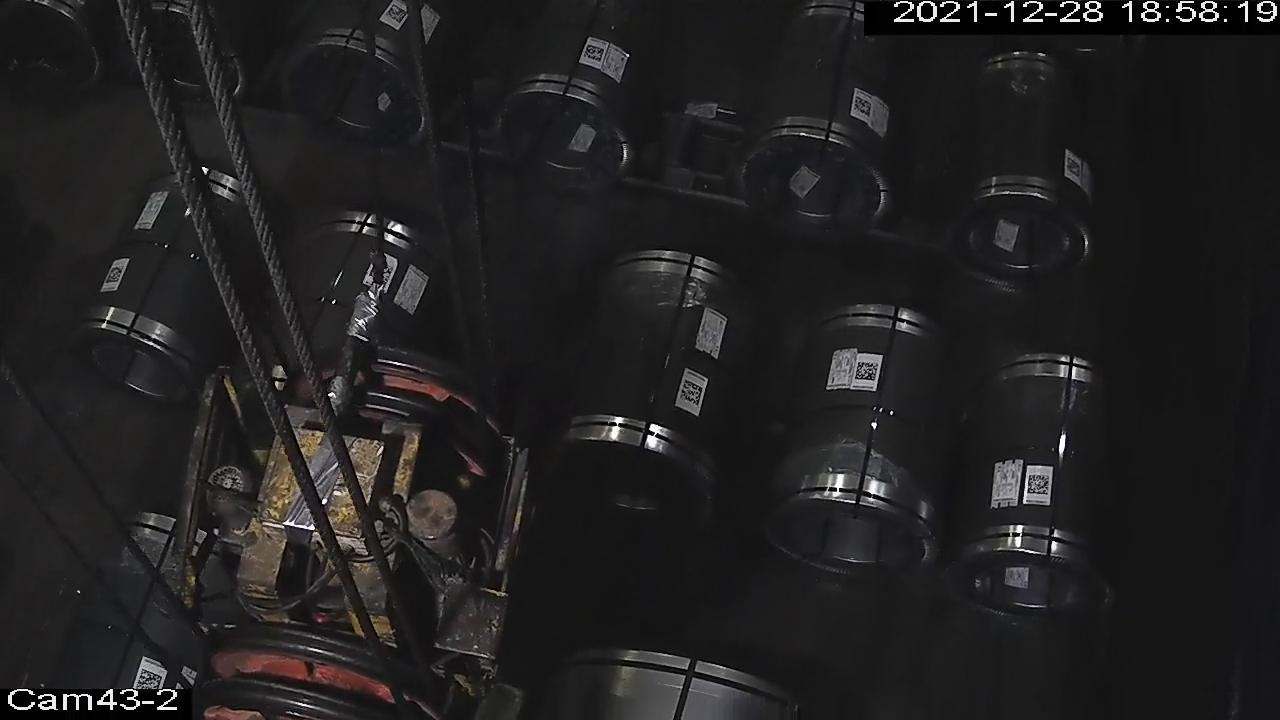data matrix: (679, 379, 705, 407), (1026, 473, 1053, 498), (854, 361, 882, 384), (852, 95, 875, 119), (385, 4, 410, 25), (583, 44, 607, 64), (1065, 156, 1084, 181), (104, 265, 128, 284)
